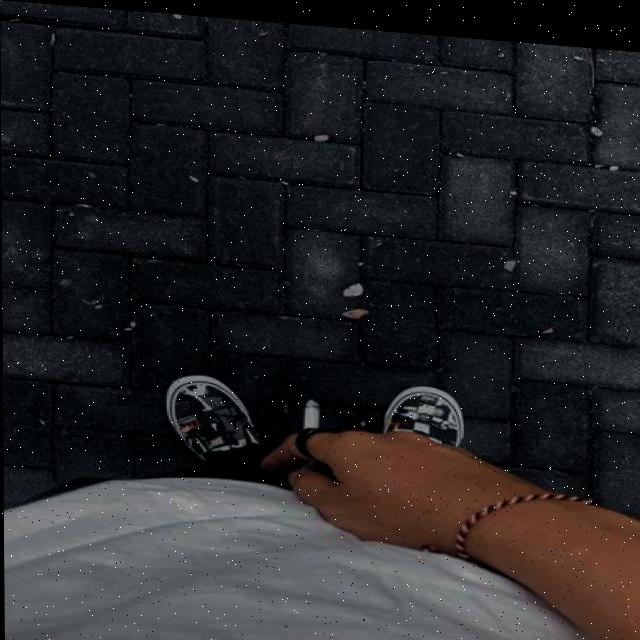cigarette: (302, 394, 319, 426)
